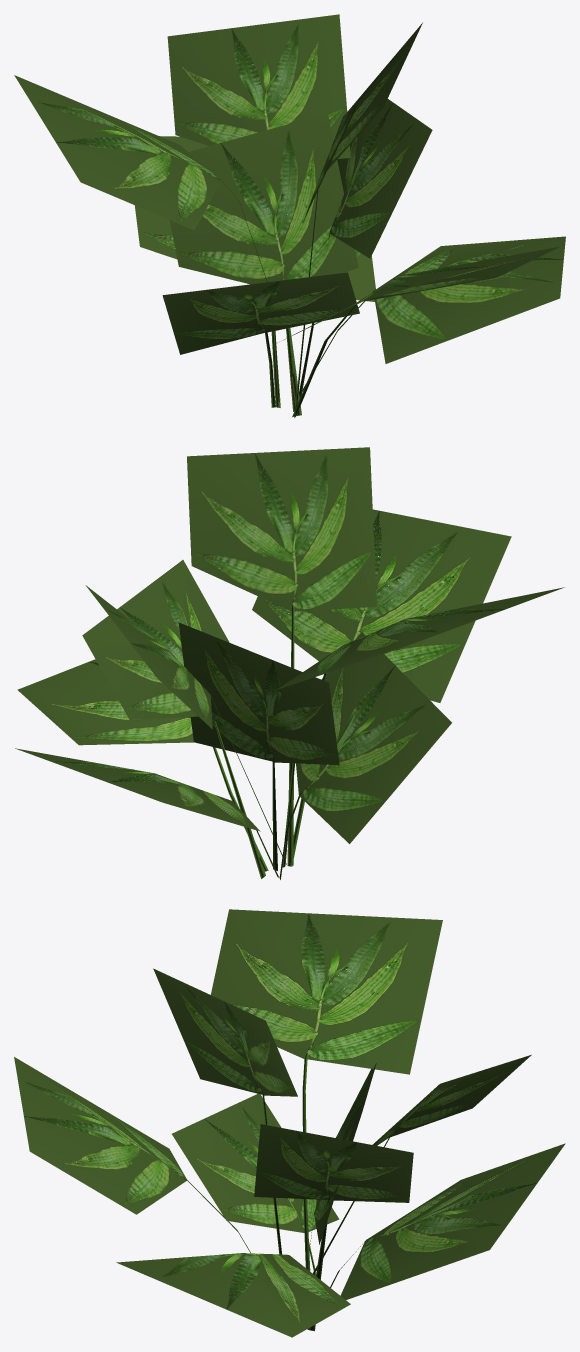
Rendered from MK4_Trop_Plant9.DAE.
The picture shows the model from 3 angles, top to bottom: view 1: azimuth 30°, elevation 25°; view 2: azimuth 150°, elevation 25°; view 3: azimuth 270°, elevation 25°; orthographic projection. The views are drawn at different scales.
Parts seen in each view (by area): view 1: MK4_Trop_plant9; view 2: MK4_Trop_plant9; view 3: MK4_Trop_plant9.
Part boxes in pixels (x1,y1,x2,y2): MK4_Trop_plant9: [14, 14, 565, 417]; MK4_Trop_plant9: [15, 447, 564, 879]; MK4_Trop_plant9: [14, 909, 565, 1337].
Size of the model in its own units: 2.04 by 2.01 by 1.43.
